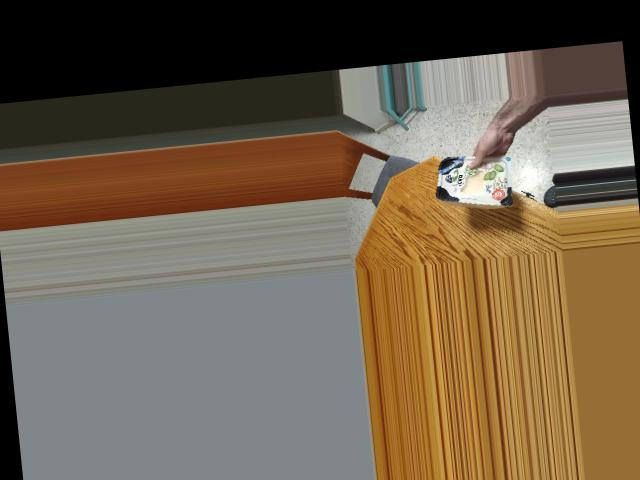cheese: (436, 142, 504, 210)
